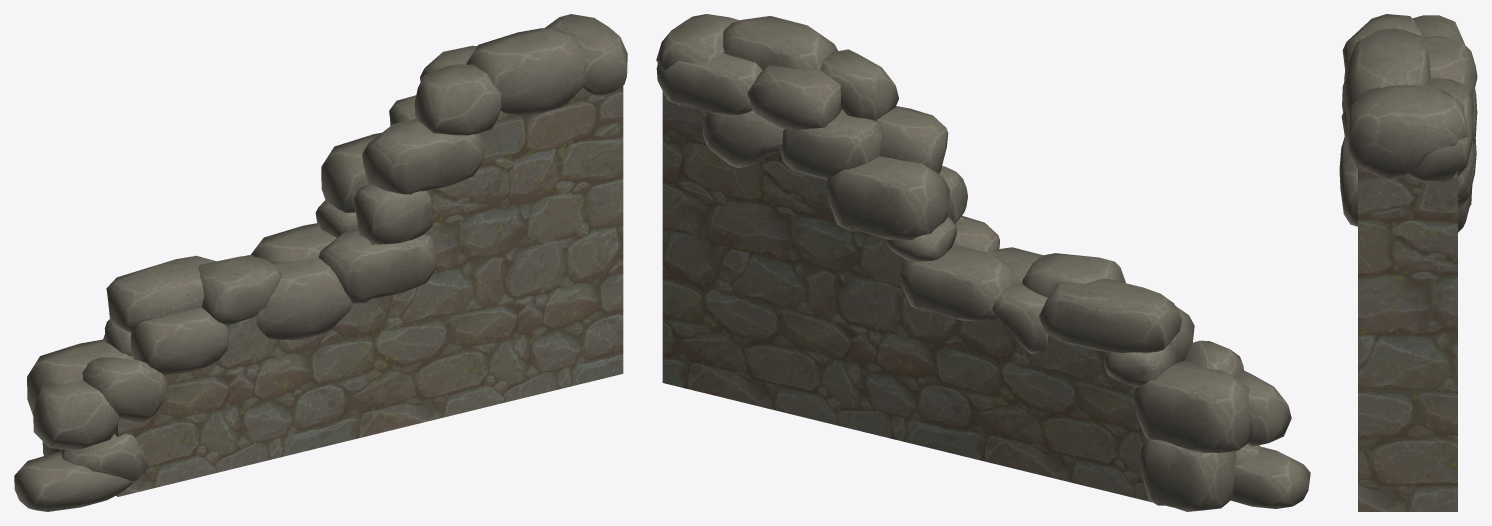
The model's file is SM_FW01_Ruins_Int_Wall_A_4x2_Brkn_02.fbx.
3 views of the same model, side by side, from view 1: azimuth 30°, elevation 25°; view 2: azimuth 150°, elevation 25°; view 3: azimuth 270°, elevation 25° (orthographic). The views are drawn at different scales.
Parts seen in each view (by area): view 1: SM_FW01_Ruins_Int_Wall_A_4x2_Brkn_02, SM_FW01_Ruins_Int_Wall_A_4x2_Brkn_02_LOD0; view 2: SM_FW01_Ruins_Int_Wall_A_4x2_Brkn_02, SM_FW01_Ruins_Int_Wall_A_4x2_Brkn_02_LOD0; view 3: SM_FW01_Ruins_Int_Wall_A_4x2_Brkn_02, SM_FW01_Ruins_Int_Wall_A_4x2_Brkn_02_LOD0.
Part boxes in pixels (bbox=[...]): SM_FW01_Ruins_Int_Wall_A_4x2_Brkn_02: bbox=[114, 85, 623, 496]; SM_FW01_Ruins_Int_Wall_A_4x2_Brkn_02_LOD0: bbox=[14, 14, 627, 511]; SM_FW01_Ruins_Int_Wall_A_4x2_Brkn_02: bbox=[662, 91, 1173, 507]; SM_FW01_Ruins_Int_Wall_A_4x2_Brkn_02_LOD0: bbox=[656, 14, 1310, 511]; SM_FW01_Ruins_Int_Wall_A_4x2_Brkn_02: bbox=[1358, 165, 1457, 511]; SM_FW01_Ruins_Int_Wall_A_4x2_Brkn_02_LOD0: bbox=[1339, 14, 1477, 232].
Size of what is drawn, in the model's own units: 4.17 by 2.29 by 0.6888.
